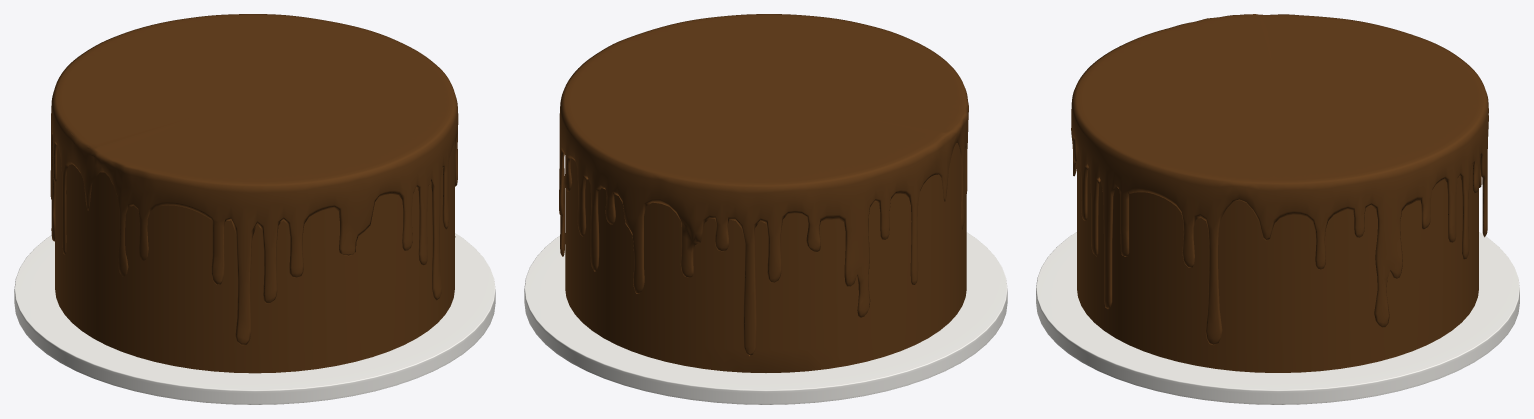
The picture shows the model from 3 angles, left to right: view 1: azimuth 30°, elevation 25°; view 2: azimuth 150°, elevation 25°; view 3: azimuth 270°, elevation 25°; orthographic projection.
Parts seen in each view (by area): view 1: pCylinder3, pCylinder5, pCylinder29; view 2: pCylinder3, pCylinder5, pCylinder29; view 3: pCylinder3, pCylinder5, pCylinder29.
Part boxes in pixels (<box>): pCylinder3: <box>50,14,458,345</box>; pCylinder5: <box>55,126,454,373</box>; pCylinder29: <box>14,233,495,404</box>; pCylinder3: <box>559,14,968,356</box>; pCylinder5: <box>565,137,966,372</box>; pCylinder29: <box>524,232,1007,404</box>; pCylinder3: <box>1071,14,1488,345</box>; pCylinder5: <box>1077,15,1478,372</box>; pCylinder29: <box>1036,232,1519,404</box>.
Bounding box in the file's own units: 0.024 × 0.0112 × 0.024.
4 materials, 2 textured.
